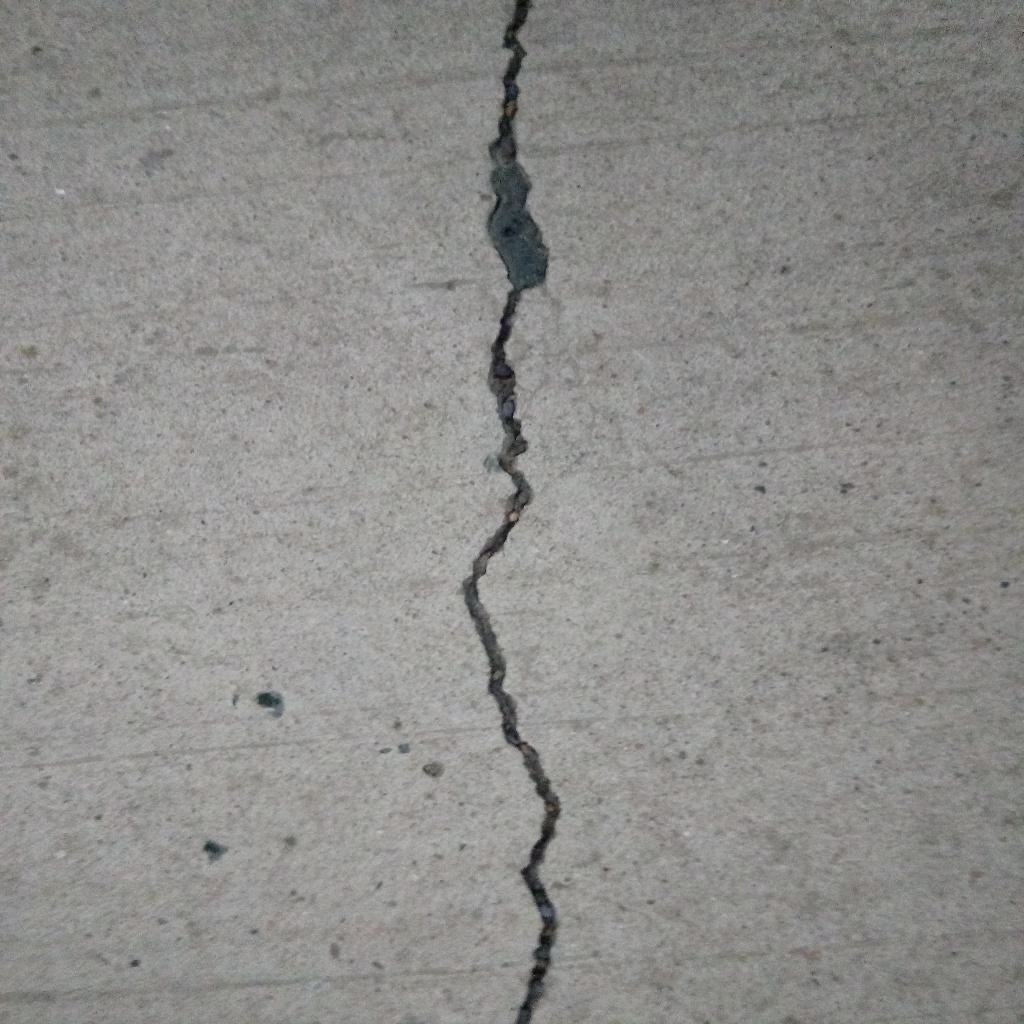Crack: (462, 1, 564, 1024)
